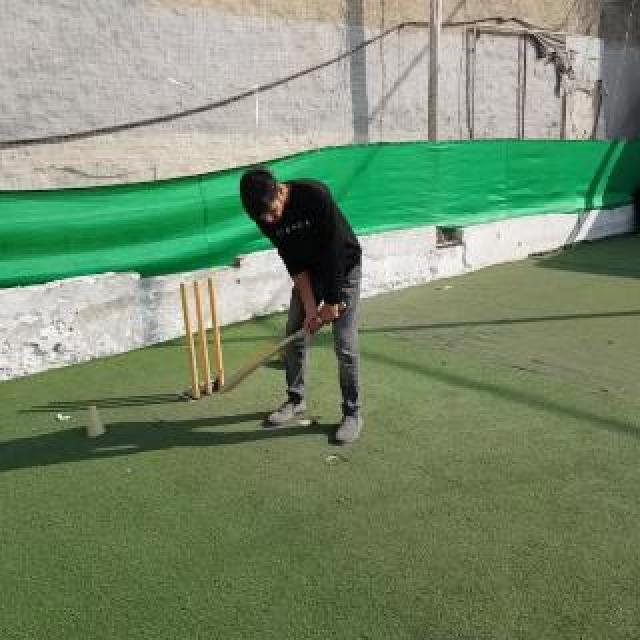bat: (218, 302, 348, 394)
